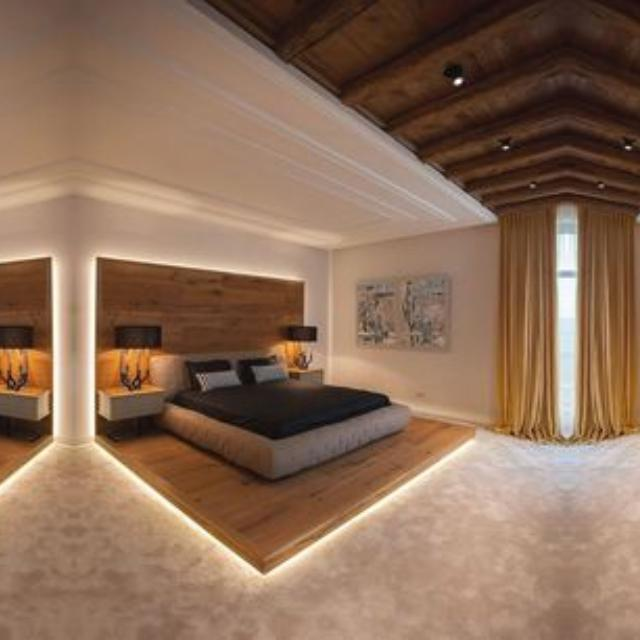bed: (98, 418, 473, 571), (151, 351, 408, 479), (95, 259, 302, 394), (0, 259, 51, 386)
curtain: (499, 202, 567, 439), (567, 202, 634, 439)
lamp: (115, 326, 161, 389), (0, 326, 31, 389), (285, 326, 317, 369)
rug: (74, 429, 565, 640)
table: (97, 389, 162, 441), (0, 389, 49, 441), (288, 369, 322, 384)
wall-art: (357, 275, 446, 349)
